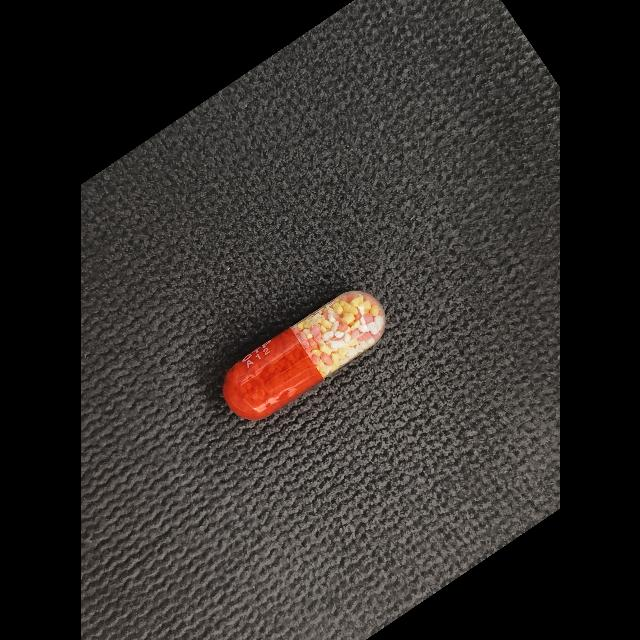Intact Capsule: (222, 291, 385, 420)
